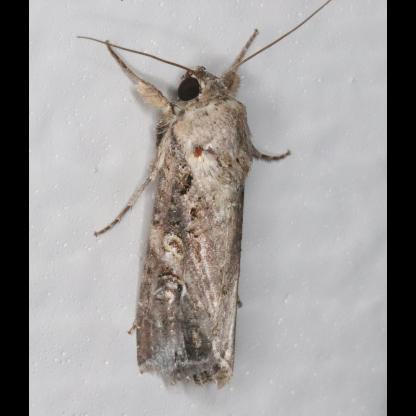Fall Armyworm Moth: (72, 0, 336, 395)
